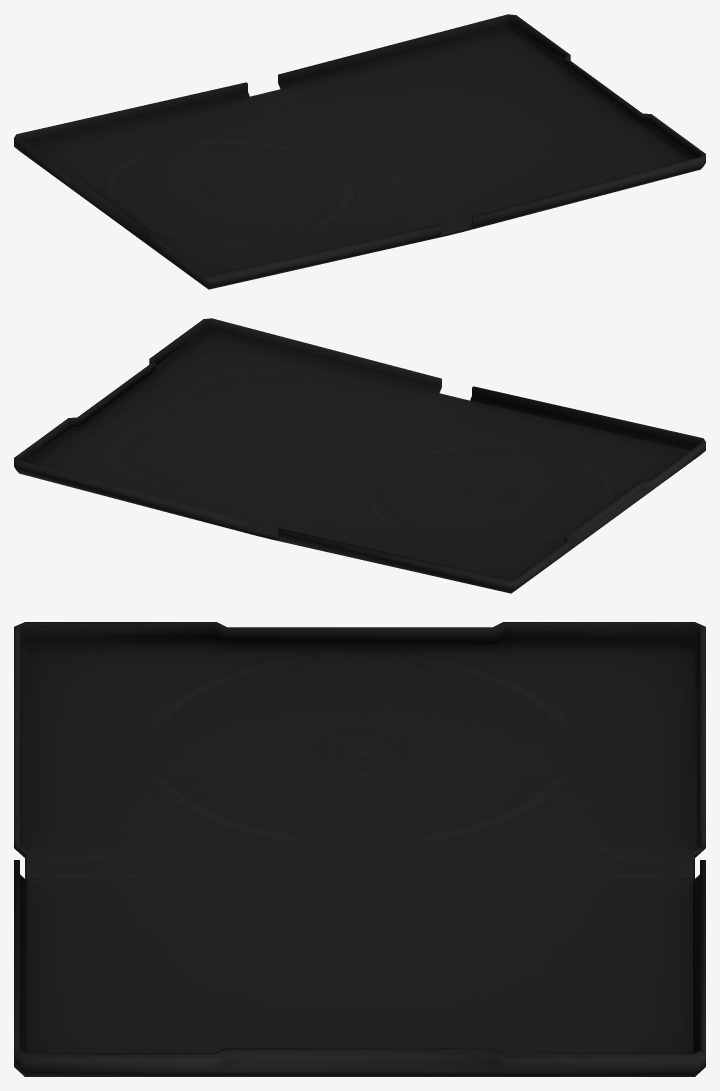
Rendered from dvd_case_generic_open.dae.
3 views of the same model, one above another, from view 1: azimuth 30°, elevation 25°; view 2: azimuth 150°, elevation 25°; view 3: azimuth 270°, elevation 25° (orthographic). The views are drawn at different scales.
Parts seen in each view (by area): view 1: polySurface11; view 2: polySurface11; view 3: polySurface11.
Boxes of the visible parts, x1,y1,x2,y2 form: polySurface11: (14,14,705,289); polySurface11: (14,318,705,593); polySurface11: (14,622,705,1076).
Bounding box in the file's own units: 0.2819 × 0.0101 × 0.19.
